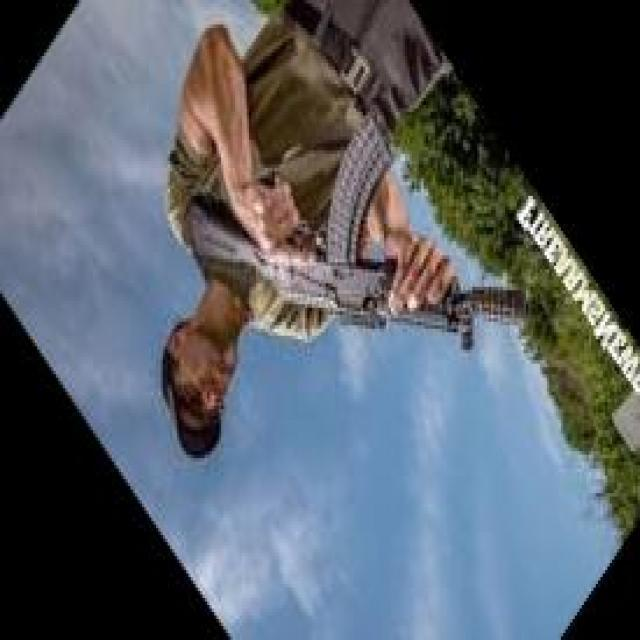weapon: (181, 108, 531, 352)
